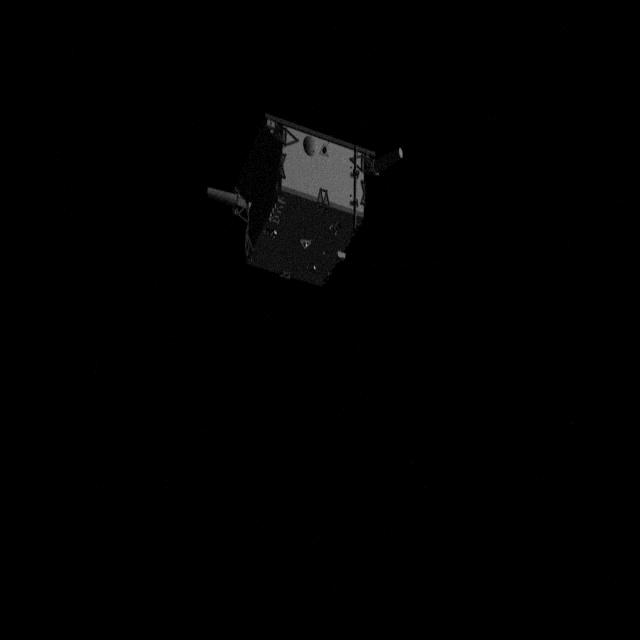satellite: (196, 116, 400, 296)
